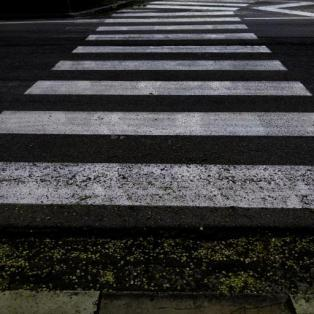Paso de Cebra: (19, 58, 314, 102), (80, 23, 261, 44)
